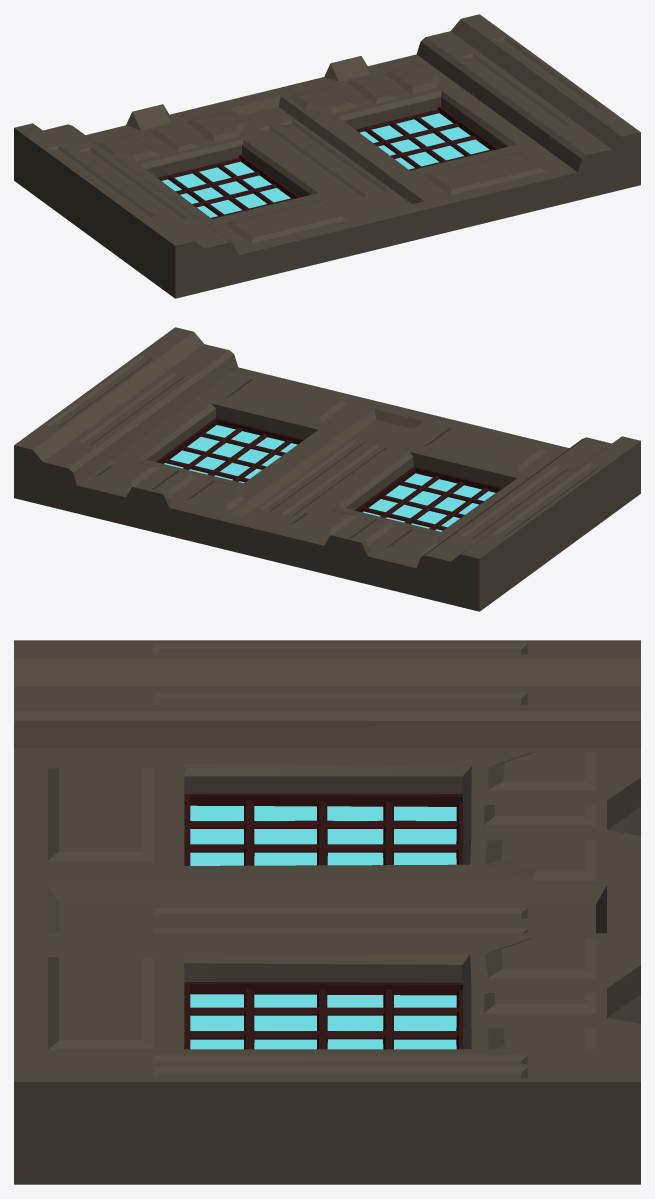
File: P_F_DoubleWCadreGrille.fbx
3 renders of one model, top to bottom at view 1: azimuth 30°, elevation 25°; view 2: azimuth 150°, elevation 25°; view 3: azimuth 270°, elevation 25°, orthographic. The views are drawn at different scales.
Parts seen in each view (by area): view 1: P_F_DoubleWCadreGrille; view 2: P_F_DoubleWCadreGrille; view 3: P_F_DoubleWCadreGrille.
Part boxes in pixels (<box>): P_F_DoubleWCadreGrille: <box>14,14,640,298</box>; P_F_DoubleWCadreGrille: <box>14,327,640,611</box>; P_F_DoubleWCadreGrille: <box>14,640,640,1184</box>.
Bounding box in the file's own units: 650 × 70.51 × 390.
